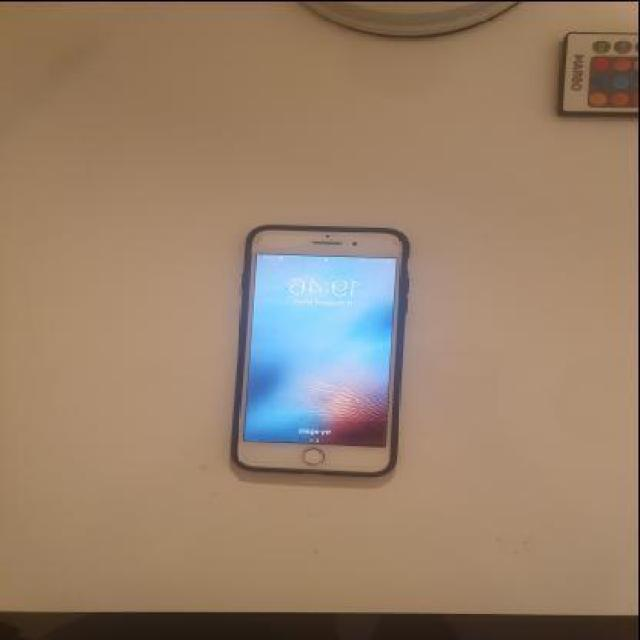mobile: (234, 224, 408, 482)
